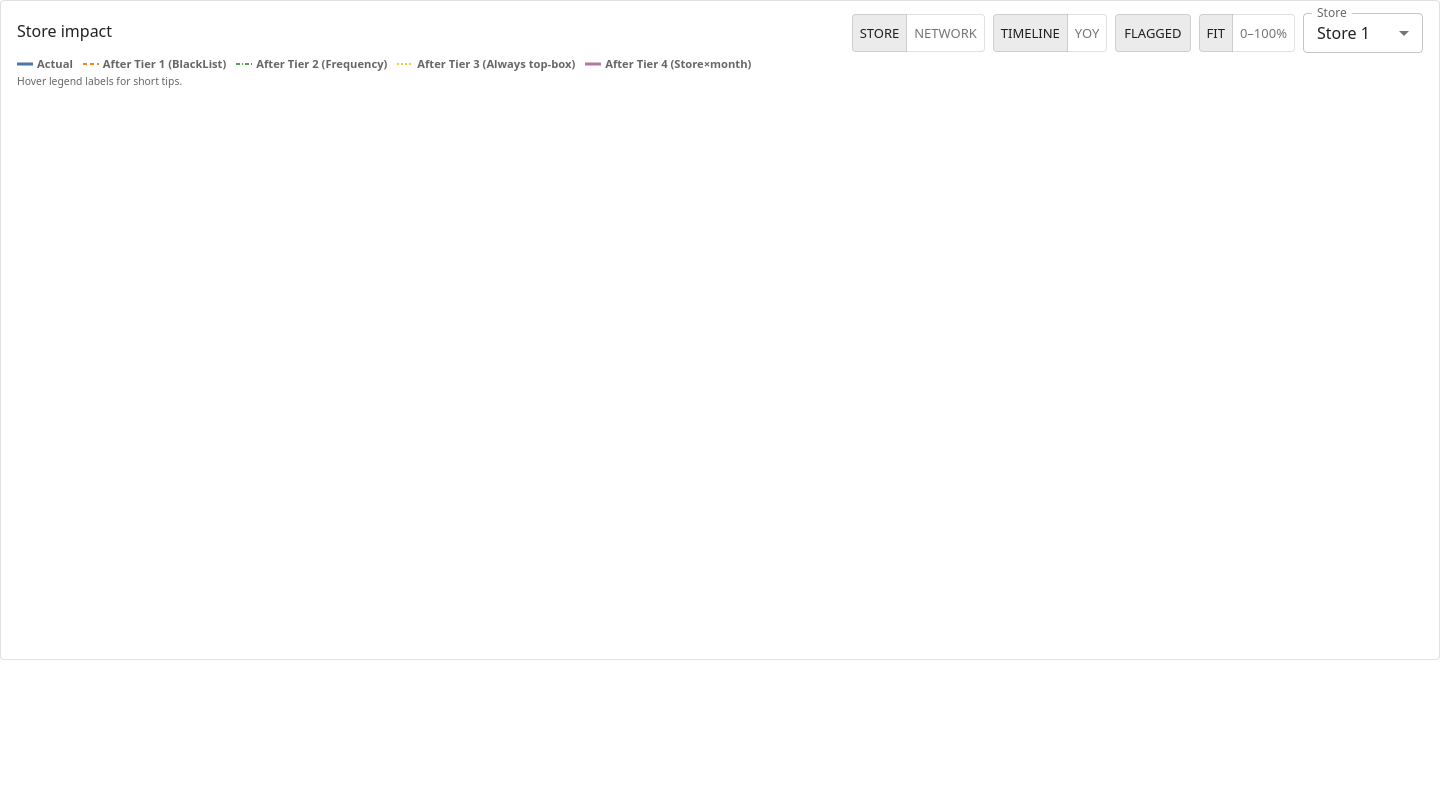
Test: StoreImpactChart › toggles Flagged overlay on/off next to Timeline/YoY when Tier 4 is enabled
Click the button with test id "chart-flagged-toggle". click: click(1153, 33)
box: [1115,14,1191,52]
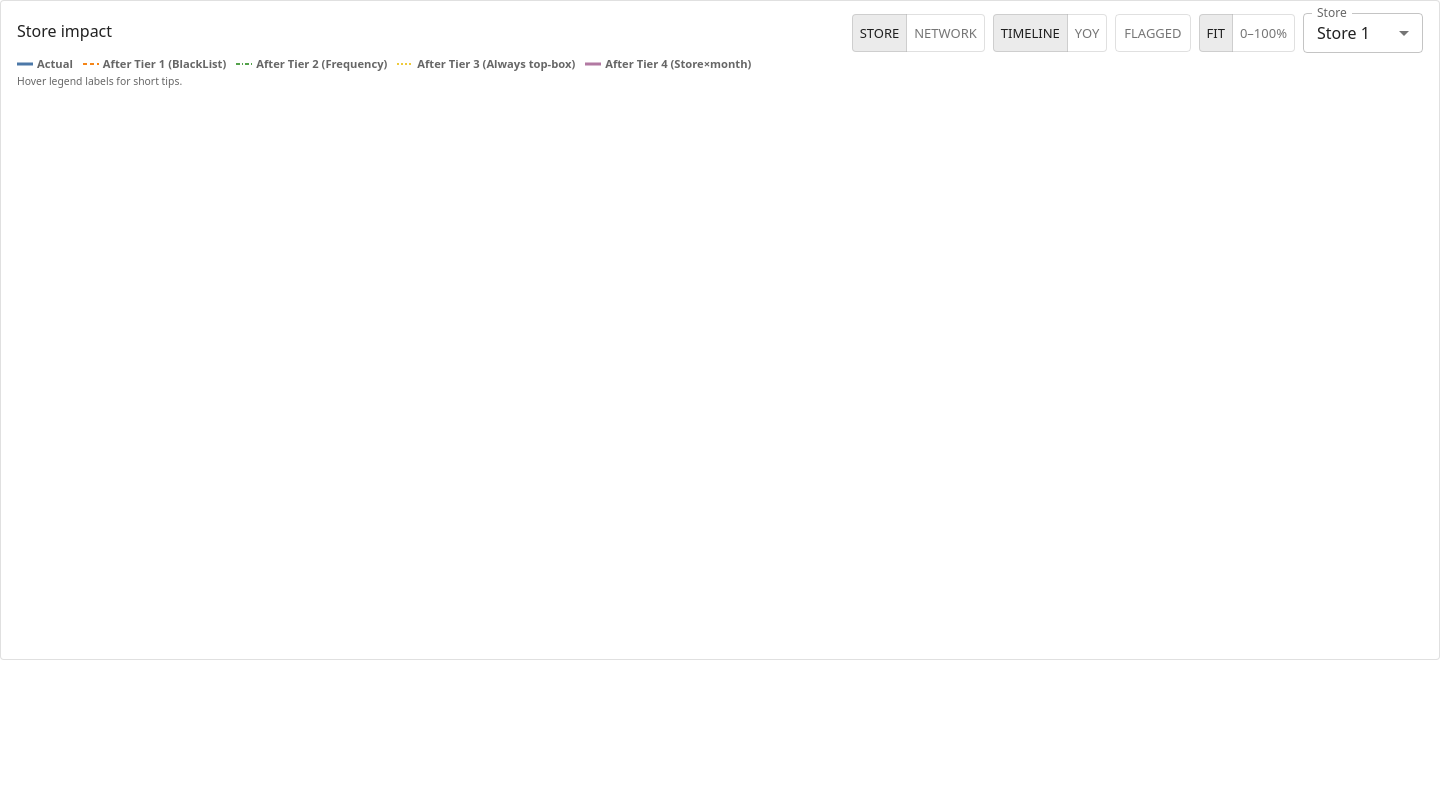
Expected: the button with test id "chart-flagged-toggle" is not pressed
Click the button with test id "chart-flagged-toggle". click: click(1153, 33)
box: [1115,14,1191,52]
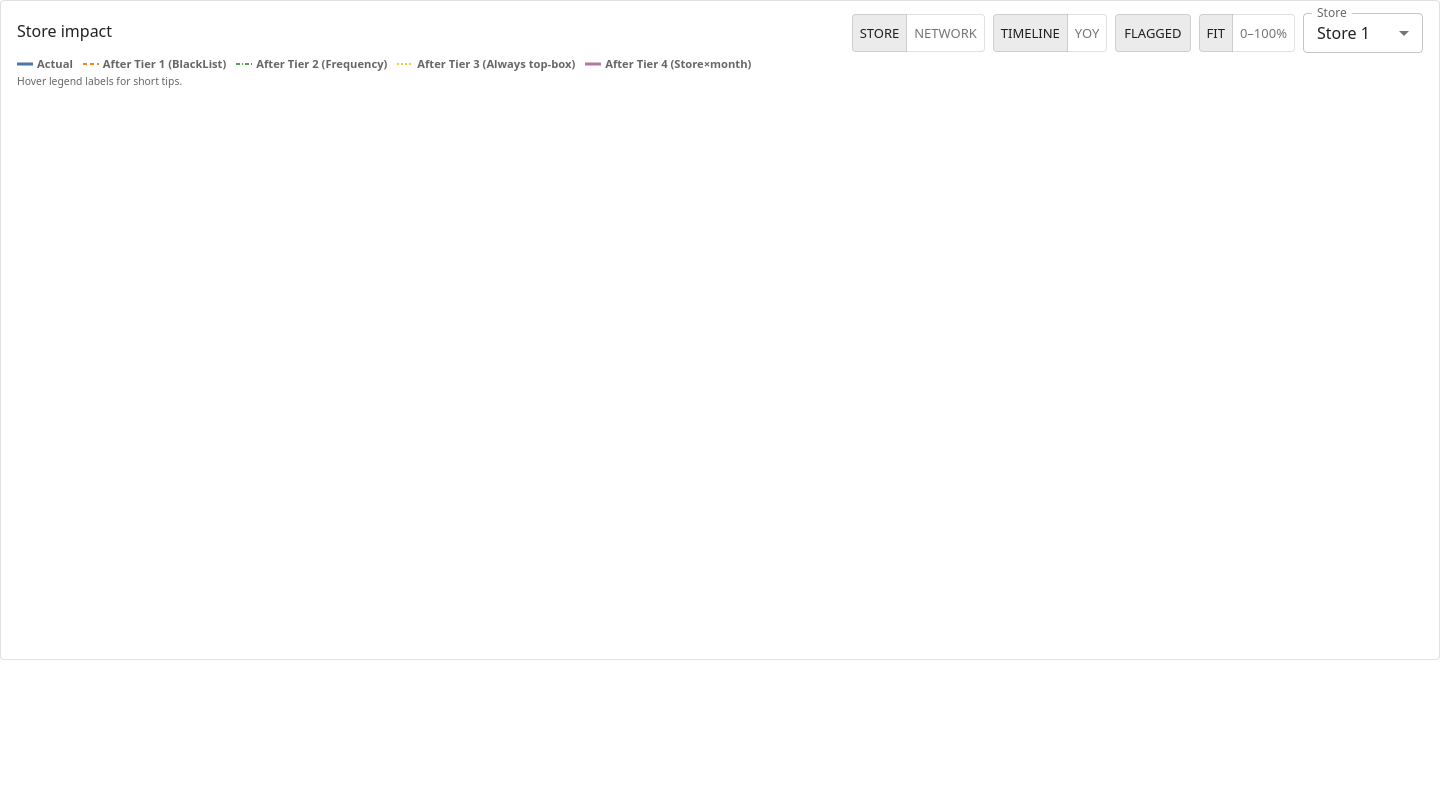
Expected: the button with test id "chart-flagged-toggle" is pressed, [1115,14,1191,52]
Click the button with aria-label "Year over year mode". click: click(1087, 33)
box: [1067,14,1107,52]
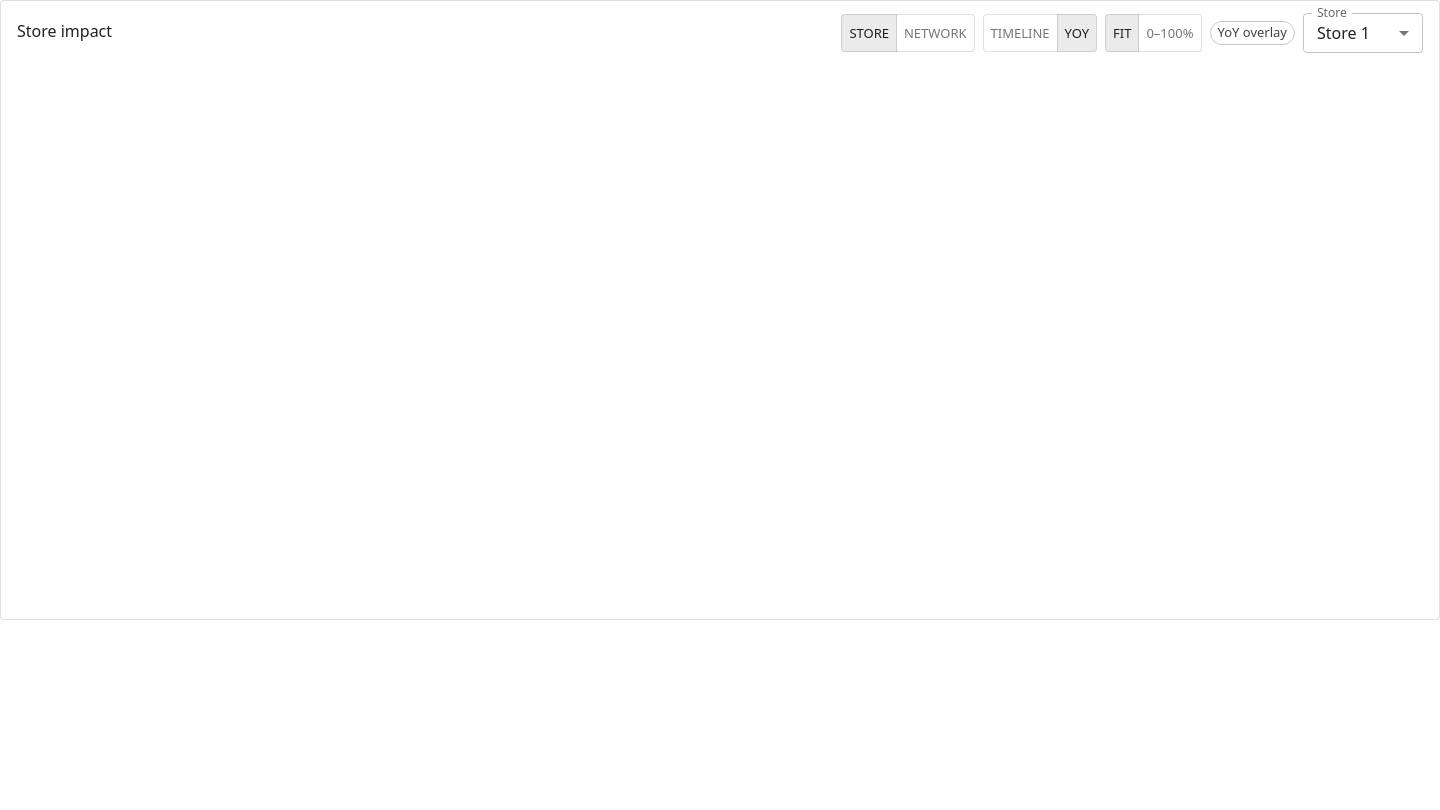
Expected: the button with test id "chart-flagged-toggle" is gone
